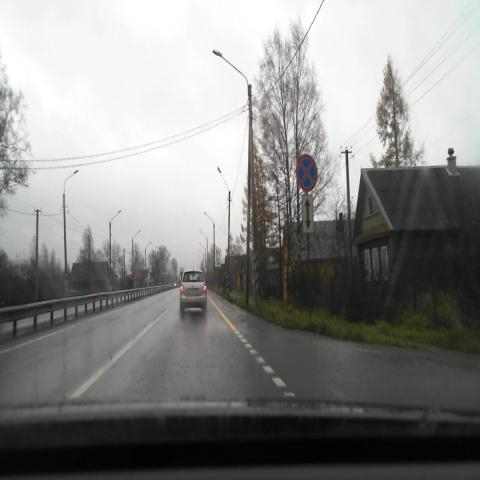3_27: (296, 154, 317, 192)
8_2_4: (302, 194, 314, 232)
